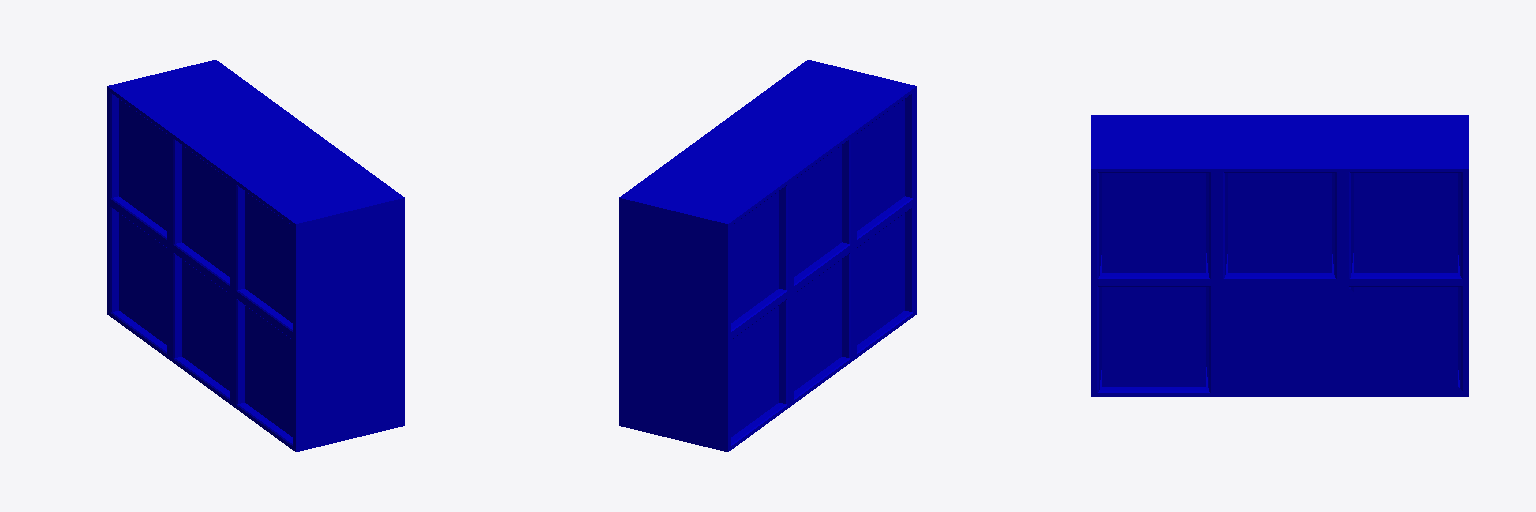
The model's file is 000_KeepTalk.obj.
The picture shows the model from 3 angles: view 1: azimuth 30°, elevation 25°; view 2: azimuth 150°, elevation 25°; view 3: azimuth 270°, elevation 25°; orthographic projection.
Parts seen in each view (by area): view 1: Base_Model_Case_Model; view 2: Base_Model_Case_Model; view 3: Base_Model_Case_Model.
Part boxes in pixels (bbox=[...]): Base_Model_Case_Model: bbox=[107, 60, 404, 451]; Base_Model_Case_Model: bbox=[619, 60, 916, 451]; Base_Model_Case_Model: bbox=[1091, 115, 1468, 396].
Size of the model in its own units: 0.3 by 0.6 by 0.9.